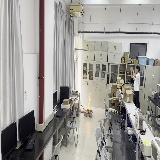fire: (86, 92, 91, 112)
